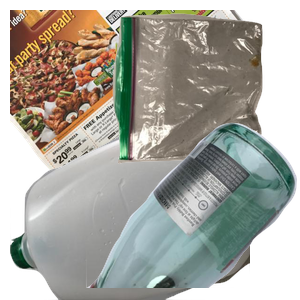glass: (86, 120, 300, 300)
paper: (10, 10, 250, 190)
plastic: (10, 120, 250, 300)
trash: (110, 11, 300, 167)
